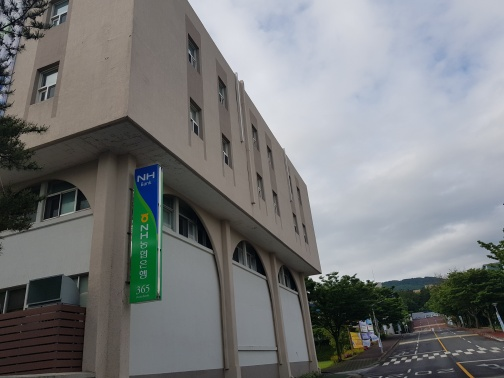Main Building of University: (12, 6, 329, 373), (124, 158, 166, 306)
